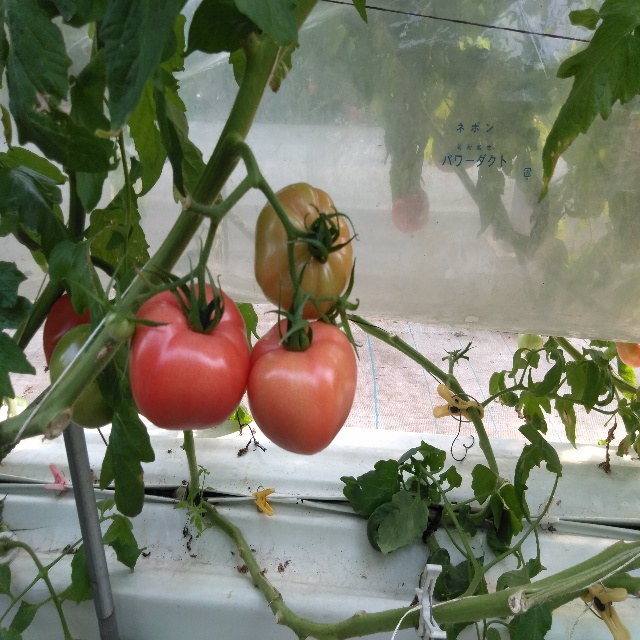b_fully_ripened: (128, 281, 249, 431), (42, 290, 92, 368)
b_green: (50, 324, 130, 428), (105, 309, 136, 342), (517, 333, 543, 355)
b_half_ripened: (247, 318, 359, 456), (254, 182, 353, 321), (616, 341, 640, 368)
